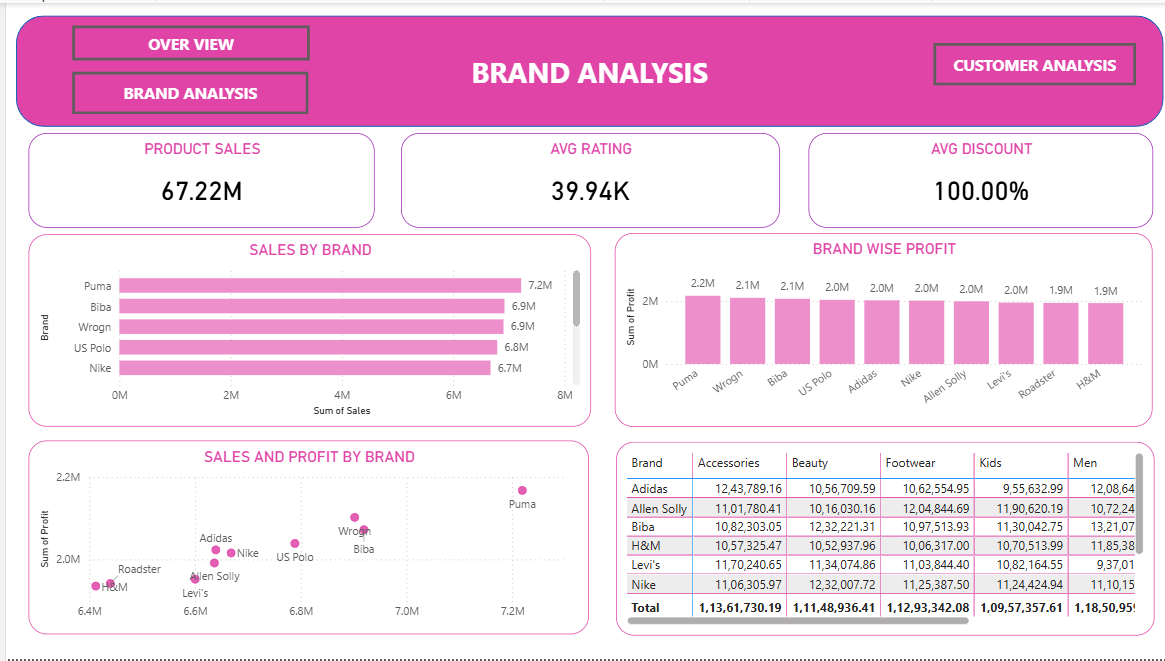

Layout of this report page (visuals, bound fields, positions):
{"tool":"powerbi","page":{"name":"BRAND ANALYSIS","canvas":[1280,720],"ordinal":1},"visuals":[{"type":"shape","box":[11,13.7,1259.7,122.1],"z":0},{"type":"card","title":"PRODUCT SALES","fields":{"Values":["Sum(Myntra_Sales_Data.Sales)"]},"box":[24.7,142.7,380.1,104.3],"z":1000},{"type":"card","title":"AVG DISCOUNT","fields":{"Values":["Sum(Myntra_Sales_Data.Discount_%)"]},"box":[881,142.7,378.7,104.3],"z":2000},{"type":"card","title":"AVG RATING","fields":{"Values":["Sum(Myntra_Sales_Data.Rating)"]},"box":[433.6,142.7,415.8,104.3],"z":3000},{"type":"barChart","title":"SALES BY BRAND","fields":{"Category":["Myntra_Sales_Data.Brand"],"Y":["Sum(Myntra_Sales_Data.Sales)"]},"box":[24.5,254.3,617.5,211.6],"z":4000},{"type":"columnChart","title":"BRAND WISE PROFIT","fields":{"Category":["Myntra_Sales_Data.Brand"],"Y":["Sum(Myntra_Sales_Data.Profit)"]},"box":[668.9,253.1,590.6,212.8],"z":5000},{"type":"scatterChart","title":"SALES AND PROFIT BY BRAND","fields":{"X":["Sum(Myntra_Sales_Data.Sales)"],"Y":["Sum(Myntra_Sales_Data.Profit)"],"Category":["Myntra_Sales_Data.Brand"]},"box":[24.5,480.6,615.1,212.8],"z":6000},{"type":"pivotTable","fields":{"Rows":["Myntra_Sales_Data.Brand"],"Columns":["Myntra_Sales_Data.Category"],"Values":["Sum(Myntra_Sales_Data.Sales)"]},"box":[669,481,591,213],"z":7000},{"type":"actionButton","box":[72.7,24.7,260.7,38.4],"z":8000},{"type":"actionButton","box":[72.7,75.5,259.3,46.7],"z":9000},{"type":"actionButton","box":[1018.2,43.9,222.3,46.7],"z":10000}]}

Visuals, with their boxes in screenshot pixels (x1, y1, x2, y2), scaled from the page's 1280x720 canvas onto the 1165x661 screenshot:
shape: l=10, t=13, r=1157, b=125
"PRODUCT SALES" card: l=22, t=131, r=368, b=227
"AVG DISCOUNT" card: l=802, t=131, r=1147, b=227
"AVG RATING" card: l=395, t=131, r=773, b=227
"SALES BY BRAND" barChart: l=22, t=233, r=584, b=428
"BRAND WISE PROFIT" columnChart: l=609, t=232, r=1146, b=428
"SALES AND PROFIT BY BRAND" scatterChart: l=22, t=441, r=582, b=637
pivotTable - Myntra_Sales_Data.Brand x Myntra_Sales_Data.Category: l=609, t=442, r=1147, b=637
actionButton: l=66, t=23, r=303, b=58
actionButton: l=66, t=69, r=302, b=112
actionButton: l=927, t=40, r=1129, b=83
